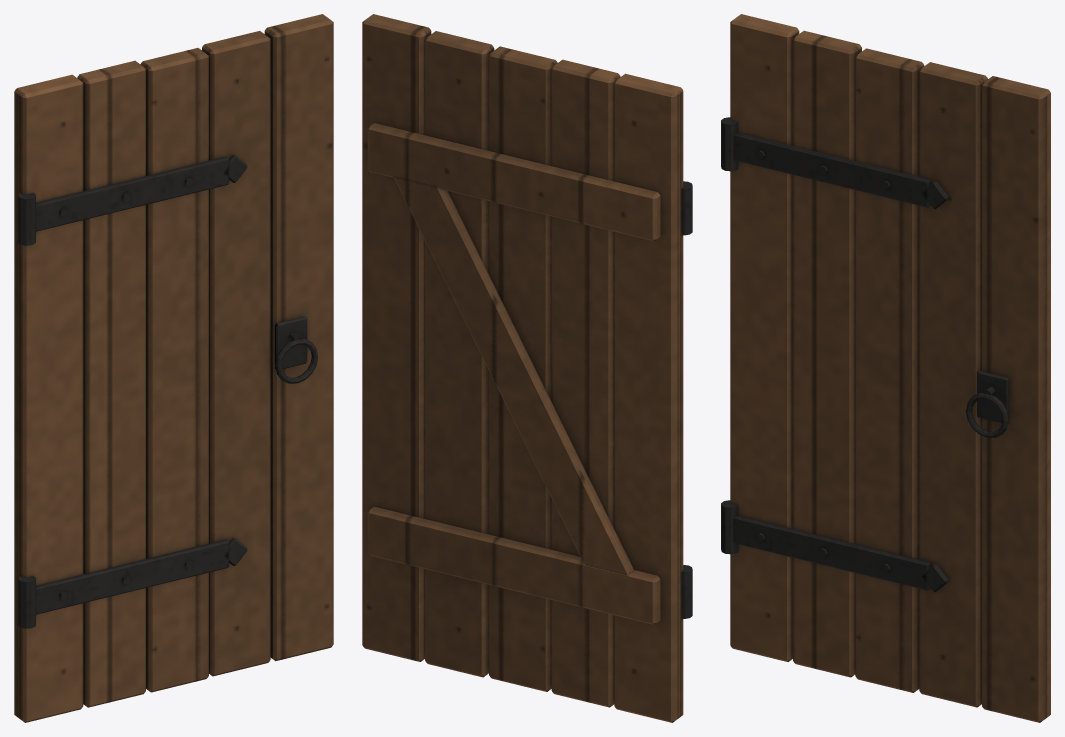
File: Prop_Door.fbx
3 renders of one model, left to right at view 1: azimuth 30°, elevation 25°; view 2: azimuth 150°, elevation 25°; view 3: azimuth 330°, elevation 25°, orthographic.
Visible parts, largest first — view 1: Prop_Door; view 2: Prop_Door; view 3: Prop_Door.
Part boxes in pixels (box(x1,y1,x2,y2)): Prop_Door: box(14, 14, 333, 722); Prop_Door: box(362, 14, 692, 722); Prop_Door: box(721, 14, 1050, 722).
Bounding box in the file's own units: 1.21 × 2.3 × 0.1765.
